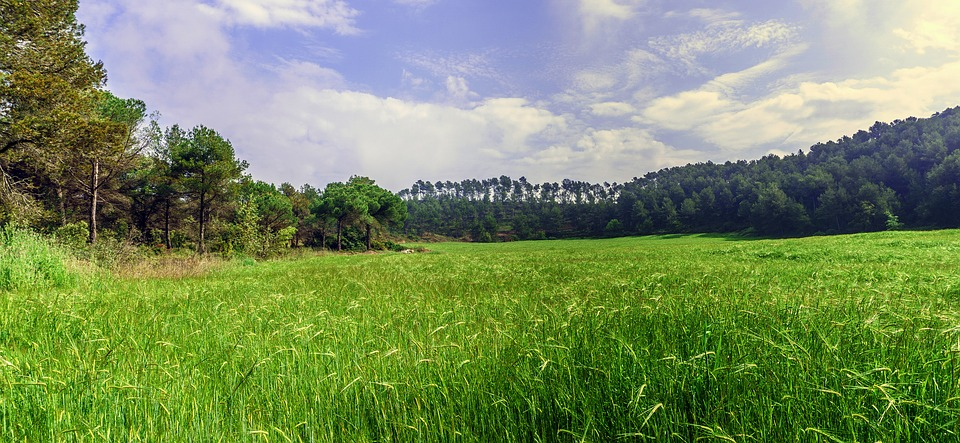Wheat: (125, 291, 917, 401)
